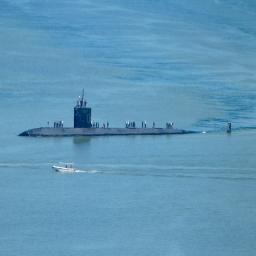submarine: (20, 107, 232, 138)
